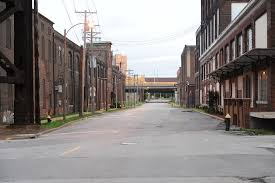strada: (3, 139, 272, 181)
